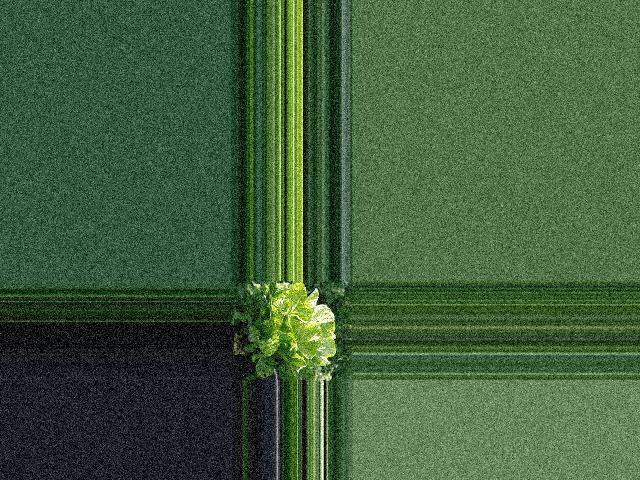lettuce: (250, 291, 334, 377)
